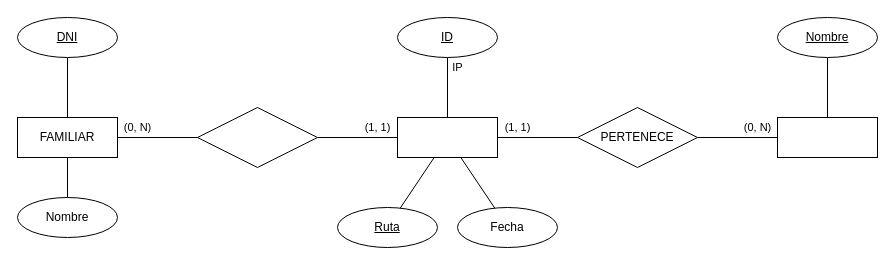
Some shapes in this 895 by 265 pixel diagram are drawn without their labels. The shapes that lost their labels are listed below. From the top down, each one's centre as x and y in pixels, then its label:
(x=257, y=137): REGISTRA
(x=447, y=137): ARCHIVO
(x=827, y=137): TIPO
